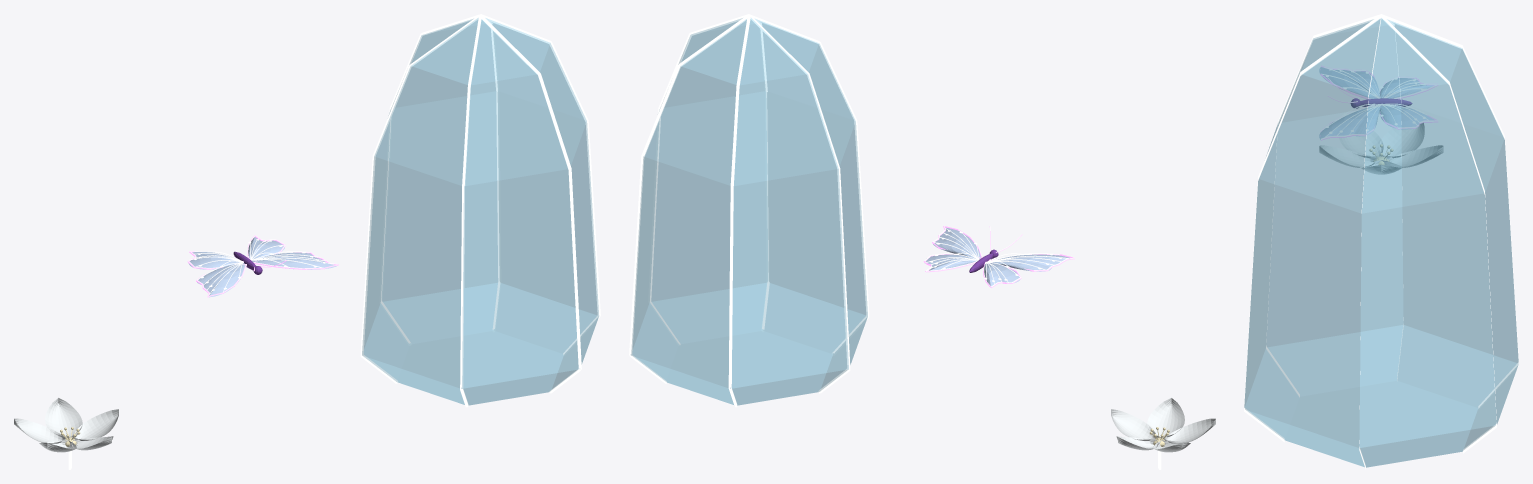
File: aya-effects.glb
The picture shows the model from 3 angles, left to right: view 1: azimuth 30°, elevation 25°; view 2: azimuth 150°, elevation 25°; view 3: azimuth 270°, elevation 25°; orthographic projection. The views are drawn at different scales.
Visible parts, largest first — view 1: Faceted translucent ice prison, White cupped petal 4, -1 upper pearlescent membrane, 1 upper pearlescent membrane, White cupped petal 0, Frost edge 1/1, Frost edge 2/1, Frost edge 0/1, Frost edge 3/1, Frost edge 5/1, White cupped petal 3, Frost edge 4/1; view 2: Faceted translucent ice prison, White cupped petal 1, White cupped petal 0, -1 upper pearlescent membrane, 1 upper pearlescent membrane, Frost edge 5/1, Frost edge 4/1, Frost edge 3/1, Frost edge 2/1, Frost edge 1/1, White cupped petal 2, Frost edge 0/1; view 3: Faceted translucent ice prison, 1 upper pearlescent membrane, White cupped petal 3, -1 upper pearlescent membrane, 1 lower pearlescent membrane, White cupped petal 2, White cupped petal 4, White cupped petal 1, -1 lower pearlescent membrane, White cupped petal 0, Frost edge 1/3, Frost edge 4/3 (+3 smaller).
Part boxes in pixels (x1,y1,x2,y2): Faceted translucent ice prison: (362, 18, 598, 405); White cupped petal 4: (45, 398, 82, 437); -1 upper pearlescent membrane: (197, 263, 245, 297); 1 upper pearlescent membrane: (252, 252, 336, 269); White cupped petal 0: (73, 409, 118, 440); Frost edge 1/1: (568, 167, 581, 370); Frost edge 2/1: (460, 185, 464, 390); Frost edge 0/1: (585, 119, 600, 317); Frost edge 3/1: (360, 156, 375, 354); Frost edge 5/1: (496, 91, 501, 281); White cupped petal 3: (14, 418, 65, 443); Frost edge 4/1: (379, 110, 392, 300); Faceted translucent ice prison: (631, 18, 867, 405); White cupped petal 1: (1147, 398, 1184, 437); White cupped petal 0: (1111, 409, 1156, 440); -1 upper pearlescent membrane: (992, 254, 1069, 271); 1 upper pearlescent membrane: (933, 227, 980, 258); Frost edge 5/1: (629, 154, 644, 356); Frost edge 4/1: (728, 185, 733, 390); Frost edge 3/1: (837, 167, 850, 370); Frost edge 2/1: (854, 121, 869, 314); Frost edge 1/1: (765, 91, 769, 281); White cupped petal 2: (1164, 418, 1215, 443); Frost edge 0/1: (648, 108, 660, 301); Faceted translucent ice prison: (1244, 18, 1518, 467); 1 upper pearlescent membrane: (1319, 106, 1380, 139); White cupped petal 3: (1379, 123, 1424, 158); -1 upper pearlescent membrane: (1319, 67, 1380, 98); 1 lower pearlescent membrane: (1379, 105, 1434, 129); White cupped petal 2: (1339, 131, 1383, 158); White cupped petal 4: (1386, 145, 1443, 167); White cupped petal 1: (1319, 145, 1376, 167); -1 lower pearlescent membrane: (1380, 78, 1433, 98); White cupped petal 0: (1360, 160, 1402, 174); Frost edge 1/3: (1300, 15, 1381, 75); Frost edge 4/3: (1381, 14, 1462, 49).
Size of the model in its own units: 3.97 by 2.4 by 1.45.
